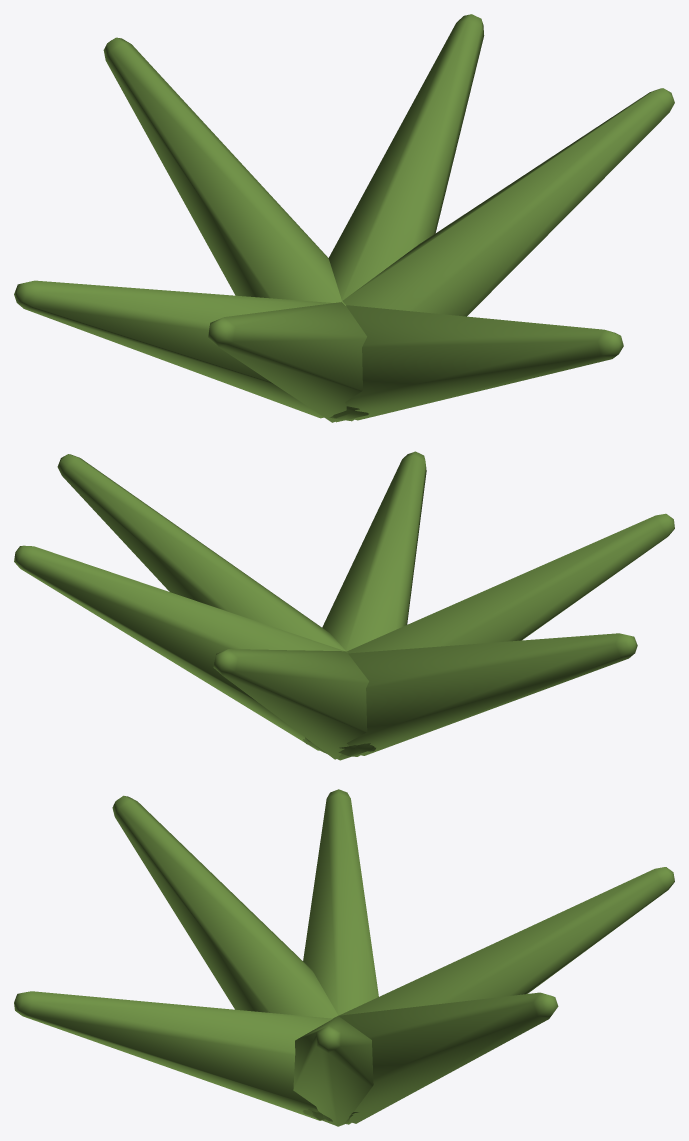
The model's file is prop_fern2_7892.glb.
3 views of the same model, one above another, from view 1: azimuth 30°, elevation 25°; view 2: azimuth 150°, elevation 25°; view 3: azimuth 270°, elevation 25° (orthographic). The views are drawn at different scales.
Visible parts, largest first — view 1: prop_fern2_7892; view 2: prop_fern2_7892; view 3: prop_fern2_7892.
Part boxes in pixels (<box>): prop_fern2_7892: <box>14,14,674,422</box>; prop_fern2_7892: <box>14,451,674,760</box>; prop_fern2_7892: <box>14,789,674,1126</box>.
Size of the model in its own units: 0.6437 by 0.2439 by 0.6261.
Materials: 1 (1 with a texture image).
